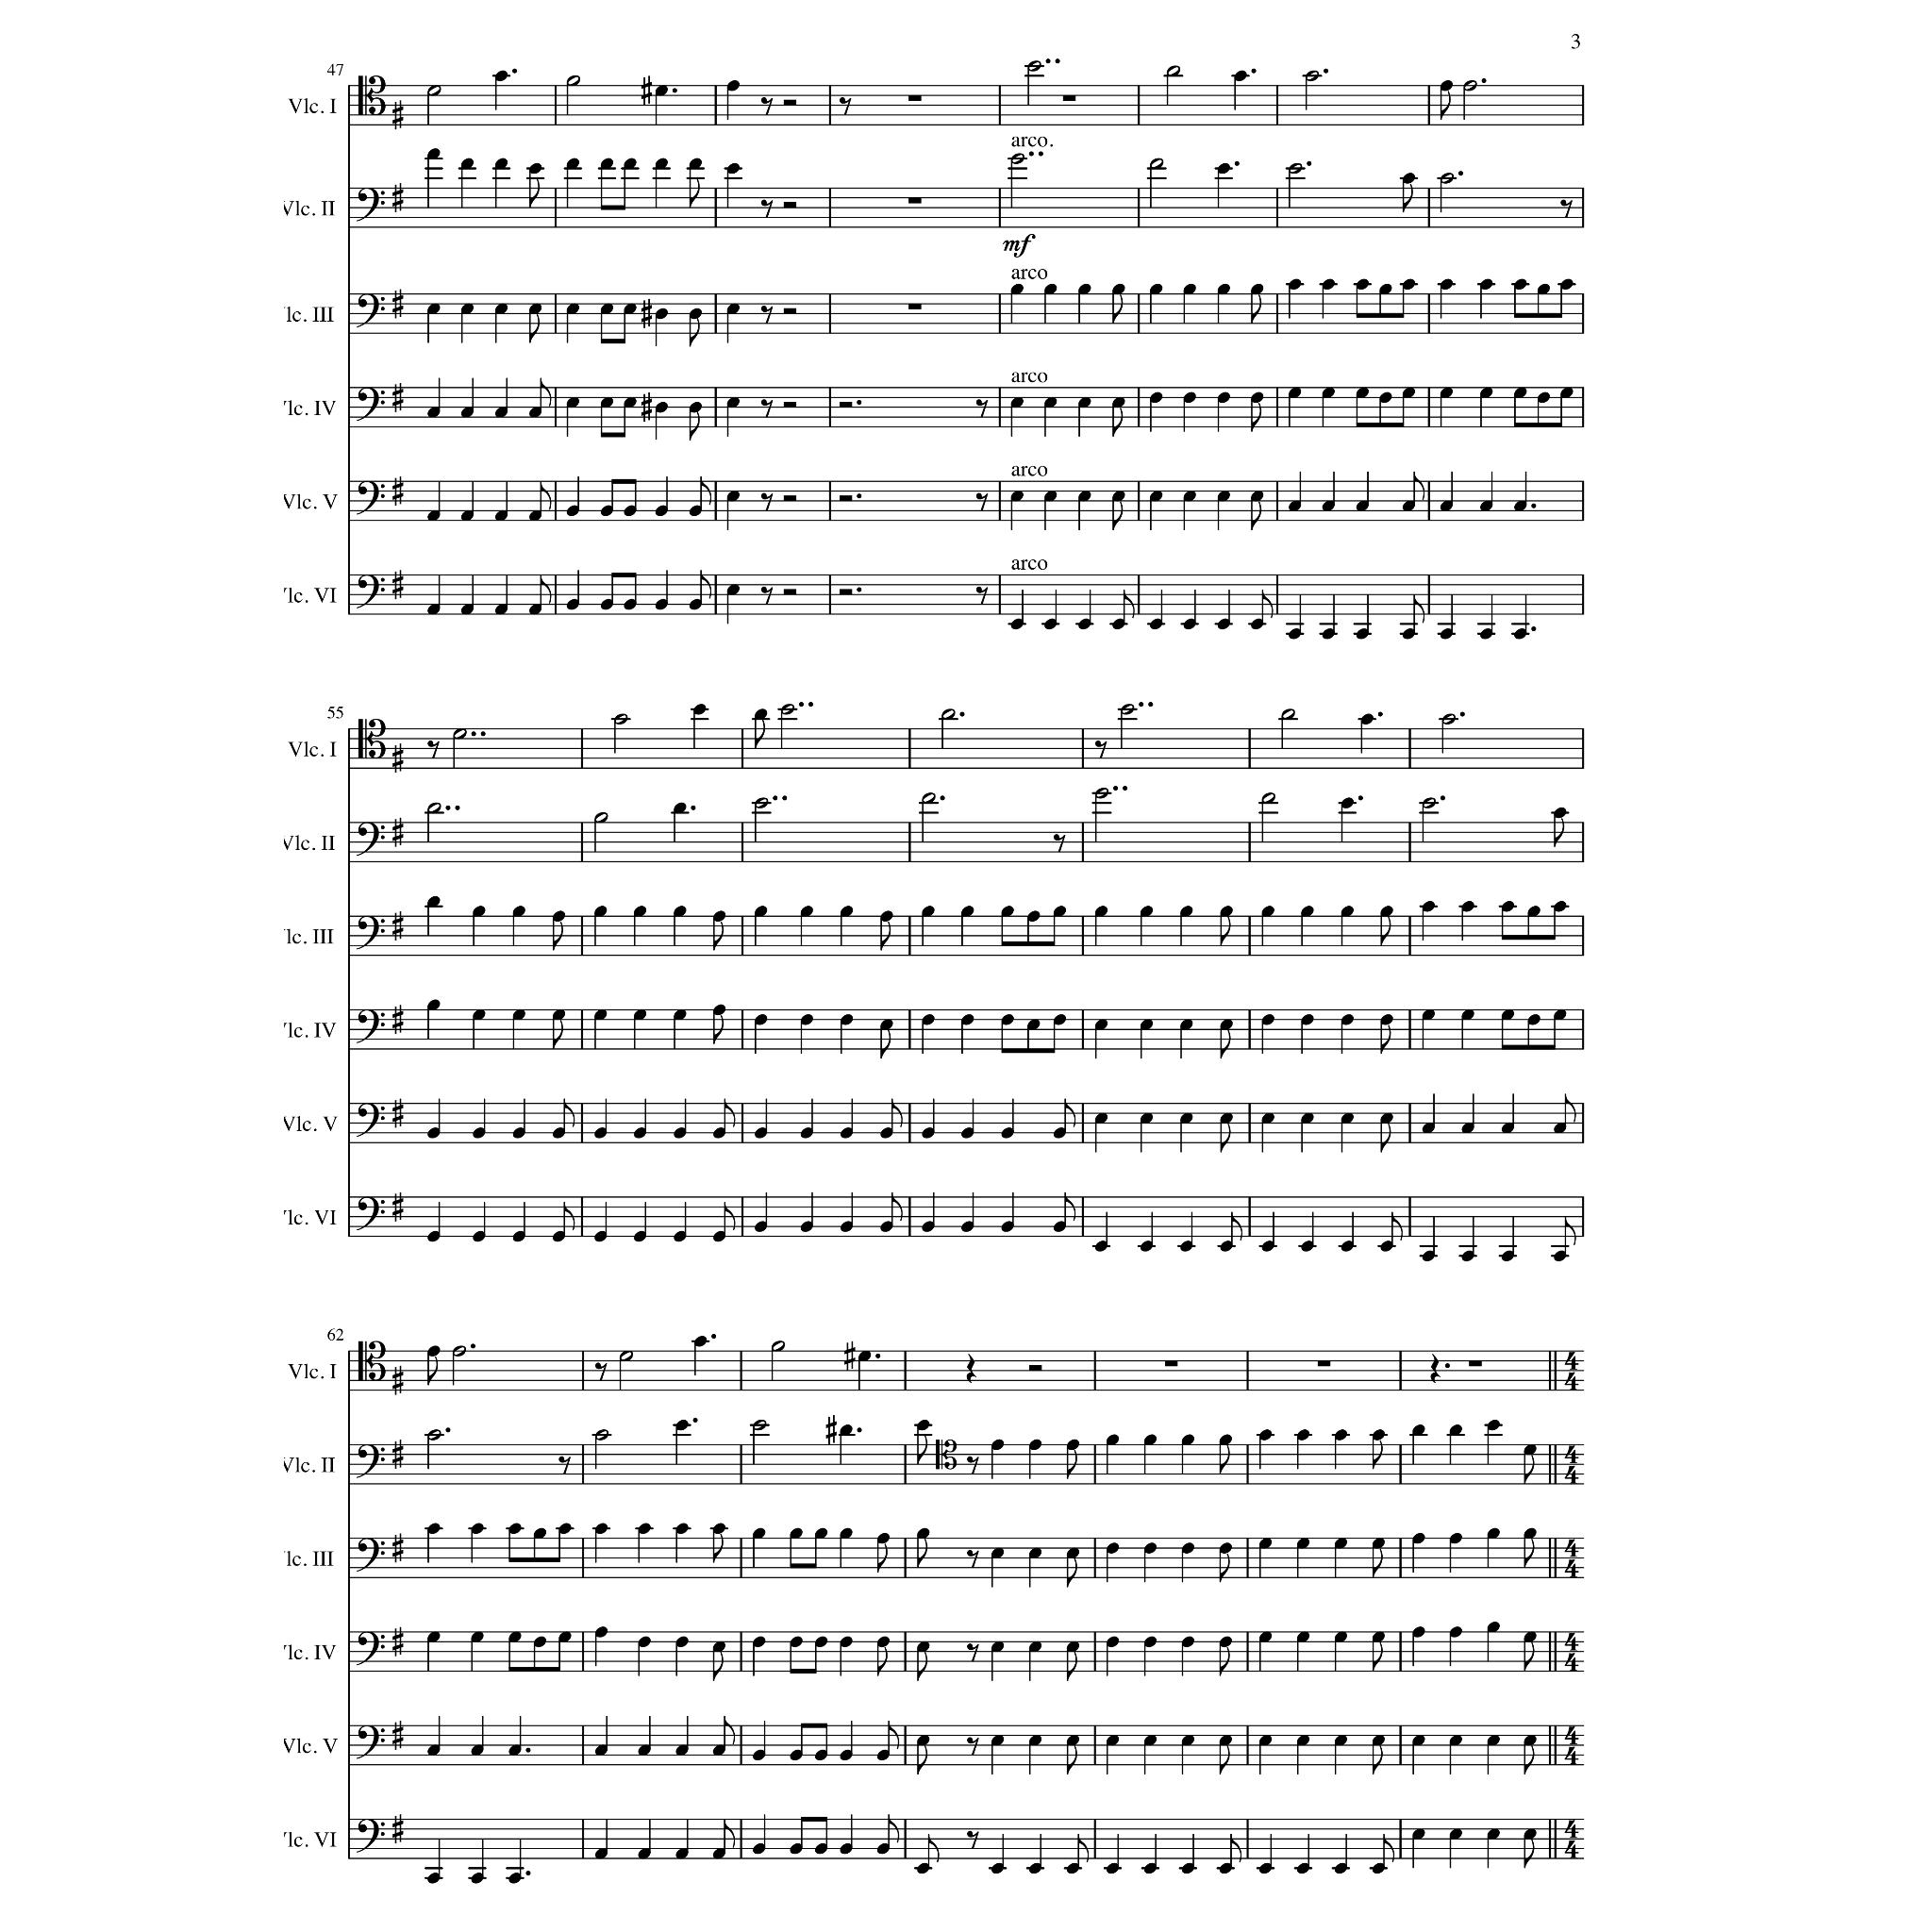fClef: (356, 573, 384, 609), (356, 294, 384, 329), (356, 1102, 384, 1138), (356, 915, 384, 950), (356, 1008, 384, 1044), (356, 1725, 384, 1760), (356, 1631, 384, 1667), (356, 1444, 384, 1479), (356, 481, 384, 515), (356, 387, 384, 421), (356, 188, 384, 221), (356, 1198, 384, 1231), (356, 823, 384, 856), (356, 1819, 384, 1852), (356, 1537, 384, 1571)
flag8thDown: (1251, 501, 1261, 531), (1251, 402, 1261, 432), (1113, 501, 1123, 531), (1440, 90, 1451, 120), (529, 313, 540, 343), (529, 179, 540, 209), (1221, 916, 1231, 947), (1221, 1030, 1231, 1060), (1380, 916, 1391, 947), (1380, 1024, 1391, 1054), (881, 1030, 892, 1060), (713, 1016, 724, 1046), (1067, 1449, 1077, 1479), (1523, 1642, 1534, 1672), (1523, 1537, 1534, 1568), (1523, 1454, 1534, 1484), (1523, 1838, 1534, 1868), (1373, 1548, 1384, 1578), (1373, 1642, 1384, 1672), (428, 1355, 439, 1385), (1251, 295, 1261, 324), (1113, 409, 1123, 437), (1113, 295, 1123, 324), (1403, 184, 1414, 212), (1221, 1123, 1231, 1152), (1553, 819, 1564, 847), (1380, 1123, 1391, 1152), (552, 922, 563, 950), (552, 1021, 563, 1049), (881, 922, 892, 950), (755, 720, 766, 748), (713, 922, 724, 950), (1221, 1445, 1231, 1474), (1221, 1553, 1231, 1582), (1221, 1647, 1231, 1675), (1221, 1746, 1231, 1775), (1067, 1559, 1077, 1587), (1067, 1746, 1077, 1775), (1067, 1652, 1077, 1681), (1523, 1746, 1534, 1775), (1373, 1440, 1384, 1468), (1373, 1746, 1384, 1775), (713, 1652, 724, 1681), (713, 1534, 724, 1562), (690, 410, 699, 441), (690, 317, 699, 347), (690, 179, 699, 209), (918, 1537, 927, 1568), (918, 1435, 927, 1465), (878, 1545, 886, 1573), (878, 1647, 886, 1675), (918, 1746, 927, 1775), (918, 1652, 927, 1681)
flag8thUp: (1261, 591, 1274, 619), (1414, 594, 1426, 623), (1414, 472, 1426, 501), (1063, 1099, 1076, 1127), (1063, 1192, 1076, 1221), (1391, 1212, 1403, 1240), (1077, 1835, 1090, 1863), (888, 1815, 901, 1844), (888, 1721, 901, 1750), (541, 575, 552, 605), (541, 481, 552, 511), (724, 1819, 734, 1849), (1123, 591, 1134, 619), (541, 379, 552, 407), (701, 571, 711, 600), (701, 478, 711, 506), (1231, 1212, 1242, 1240), (1566, 1217, 1576, 1246), (1566, 1095, 1576, 1123), (564, 1099, 575, 1127), (564, 1203, 575, 1231), (892, 1099, 902, 1127), (892, 1192, 902, 1221), (725, 1099, 736, 1127), (725, 1203, 736, 1231), (1231, 1835, 1242, 1863), (1384, 1835, 1394, 1863), (929, 1835, 939, 1863), (724, 1716, 734, 1744)
noteheadBlack: (1288, 628, 1302, 640), (1288, 501, 1302, 513), (1288, 387, 1302, 400), (1233, 71, 1247, 83), (1077, 283, 1092, 295), (1077, 396, 1092, 409), (1077, 490, 1092, 502), (1044, 490, 1058, 502), (1044, 396, 1058, 409), (1044, 283, 1058, 295), (655, 402, 669, 414), (600, 396, 614, 409), (600, 303, 614, 315), (623, 396, 637, 409), (623, 303, 637, 315), (460, 603, 474, 616), (460, 510, 474, 522), (460, 303, 474, 315), (494, 603, 508, 616), (494, 510, 508, 522), (494, 303, 508, 315), (494, 71, 508, 83), (655, 308, 669, 320), (1010, 396, 1024, 409), (1010, 490, 1024, 502), (1010, 283, 1024, 295), (688, 308, 702, 320), (688, 402, 702, 414), (1219, 1240, 1233, 1253), (1180, 1240, 1194, 1253), (1053, 1014, 1067, 1026), (1053, 1127, 1067, 1139), (1053, 1221, 1067, 1233), (1139, 1240, 1154, 1253), (1527, 1014, 1541, 1026), (1553, 807, 1568, 819), (1553, 901, 1568, 913), (1553, 1249, 1568, 1261), (1380, 1014, 1394, 1026), (1300, 1014, 1315, 1026), (1300, 1240, 1315, 1253), (1380, 1240, 1394, 1253), (1422, 901, 1437, 913), (1422, 1249, 1437, 1261), (879, 909, 893, 922), (879, 1127, 893, 1139), (879, 1221, 893, 1233), (961, 1014, 975, 1026), (961, 1127, 975, 1139), (961, 1221, 975, 1233), (800, 1127, 814, 1139), (800, 1014, 814, 1026), (800, 1221, 814, 1233), (1143, 1433, 1157, 1445), (1028, 1546, 1042, 1559), (1486, 1828, 1500, 1840), (1486, 1419, 1500, 1431), (1523, 1444, 1537, 1456), (1523, 1828, 1537, 1840), (1412, 1828, 1426, 1840), (1412, 1626, 1426, 1638), (1371, 1537, 1385, 1550), (1412, 1532, 1426, 1545), (1412, 1424, 1426, 1437), (637, 1744, 651, 1757), (508, 1872, 522, 1884), (508, 1744, 522, 1757), (471, 1872, 485, 1884), (471, 1744, 485, 1757), (876, 1532, 890, 1545), (916, 1419, 931, 1431), (1217, 490, 1230, 502), (1184, 283, 1196, 295), (1184, 490, 1196, 502), (1217, 283, 1230, 295), (1217, 163, 1230, 175), (1251, 490, 1263, 502), (1251, 283, 1263, 295), (1113, 490, 1125, 502), (1113, 396, 1125, 409), (1113, 283, 1125, 295), (1150, 283, 1162, 295), (1150, 490, 1162, 502), (1514, 628, 1527, 640), (1514, 501, 1527, 513), (1514, 387, 1527, 400), (1481, 628, 1493, 640), (1481, 501, 1493, 513), (1481, 387, 1493, 400), (1560, 387, 1573, 400), (1537, 283, 1550, 295), (1357, 628, 1369, 640), (1357, 501, 1369, 513), (1357, 387, 1369, 400), (1380, 283, 1392, 295), (1322, 501, 1334, 513), (1322, 628, 1334, 640), (1322, 387, 1334, 400), (1440, 628, 1453, 640), (1440, 501, 1453, 513), (1440, 387, 1453, 400), (1440, 80, 1453, 92), (1403, 501, 1415, 513), (1403, 628, 1415, 640), (1403, 387, 1415, 400), (566, 396, 579, 409), (566, 303, 579, 315), (426, 603, 439, 616), (426, 510, 439, 522), (426, 303, 439, 315), (529, 510, 541, 522), (529, 603, 541, 616), (529, 303, 541, 315), (529, 163, 541, 175), (727, 490, 740, 502), (727, 396, 740, 409), (727, 303, 740, 315), (727, 163, 740, 175), (727, 80, 740, 92), (1261, 1014, 1274, 1026), (1261, 1240, 1274, 1253), (1028, 909, 1040, 922), (1095, 1240, 1108, 1253), (1502, 1249, 1514, 1261), (1502, 901, 1514, 913), (1461, 901, 1474, 913), (1461, 1249, 1474, 1261), (1341, 1240, 1353, 1253), (1361, 713, 1373, 725), (1341, 1014, 1353, 1026), (594, 1127, 607, 1139), (674, 1127, 686, 1139), (1001, 1221, 1014, 1233), (633, 1127, 646, 1139), (552, 1127, 564, 1139), (426, 1127, 439, 1139), (513, 1127, 525, 1139), (552, 909, 564, 922), (472, 1127, 485, 1139), (922, 1014, 934, 1026), (922, 1127, 934, 1139), (922, 1221, 934, 1233), (840, 1014, 853, 1026), (840, 1127, 853, 1139), (840, 1221, 853, 1233), (1001, 1014, 1014, 1026), (1001, 1127, 1014, 1139), (713, 909, 725, 922), (713, 1127, 725, 1139), (754, 708, 766, 720), (754, 1014, 766, 1026), (754, 1127, 766, 1139), (754, 1221, 766, 1233), (1182, 1433, 1194, 1445), (1260, 1537, 1272, 1550), (1219, 1433, 1231, 1445), (1067, 1546, 1079, 1559), (991, 1546, 1003, 1559), (1106, 1433, 1118, 1445), (1449, 1828, 1461, 1840), (1449, 1626, 1461, 1638), (1449, 1532, 1461, 1545), (1449, 1424, 1461, 1437), (1334, 1537, 1346, 1550), (1297, 1537, 1309, 1550), (594, 1626, 607, 1638), (594, 1744, 607, 1757), (713, 1744, 725, 1757), (676, 1744, 688, 1757), (676, 1419, 688, 1431), (426, 1744, 439, 1757), (426, 1345, 439, 1357), (426, 1872, 439, 1884), (840, 1424, 853, 1437), (1288, 280, 1302, 290), (1044, 619, 1058, 630), (1077, 619, 1092, 630), (600, 159, 614, 170), (655, 506, 669, 517), (655, 600, 669, 610), (655, 159, 669, 170), (655, 85, 669, 96), (600, 600, 614, 610), (600, 506, 614, 517), (623, 600, 637, 610), (623, 506, 637, 517), (623, 159, 637, 170), (460, 407, 474, 418), (460, 159, 474, 170), (494, 407, 508, 418), (494, 159, 508, 170), (1010, 619, 1024, 630), (688, 600, 702, 610), (688, 506, 702, 517), (688, 159, 702, 170), (1219, 906, 1233, 916), (1219, 1019, 1233, 1030), (1219, 1113, 1233, 1123), (1180, 906, 1194, 916), (1180, 1019, 1194, 1030), (1180, 1113, 1194, 1123), (1053, 906, 1067, 916), (1139, 906, 1154, 916), (1139, 1019, 1154, 1030), (1139, 1113, 1154, 1123), (1527, 906, 1541, 916), (1553, 1010, 1568, 1021), (1553, 1123, 1568, 1134), (1380, 906, 1394, 916), (1300, 906, 1315, 916), (1300, 1113, 1315, 1123), (1380, 1113, 1394, 1123), (1422, 1010, 1437, 1021), (1422, 1123, 1437, 1134), (692, 704, 706, 715), (879, 1019, 893, 1030), (961, 906, 975, 916), (800, 906, 814, 916), (1143, 1543, 1157, 1553), (1143, 1637, 1157, 1647), (1143, 1736, 1157, 1746), (1143, 1863, 1157, 1874), (1028, 1642, 1042, 1652), (1028, 1863, 1042, 1874), (1028, 1736, 1042, 1746), (1028, 1440, 1042, 1451), (1486, 1736, 1500, 1746), (1486, 1622, 1500, 1633), (1486, 1529, 1500, 1539), (1523, 1529, 1537, 1539), (1523, 1736, 1537, 1746), (1523, 1631, 1537, 1642), (1412, 1736, 1426, 1746), (1371, 1863, 1385, 1874), (1371, 1736, 1385, 1746), (1371, 1631, 1385, 1642), (1371, 1430, 1385, 1440), (557, 1631, 571, 1642), (557, 1523, 571, 1534), (637, 1849, 651, 1859), (637, 1637, 651, 1647), (637, 1523, 651, 1534), (508, 1631, 522, 1642), (508, 1523, 522, 1534), (533, 1637, 547, 1647), (533, 1529, 547, 1539), (471, 1523, 485, 1534), (471, 1631, 485, 1642), (876, 1637, 890, 1647), (876, 1844, 890, 1854), (876, 1750, 890, 1760), (916, 1642, 931, 1652), (916, 1529, 931, 1539), (916, 1736, 931, 1746), (916, 1863, 931, 1874), (814, 1637, 828, 1647), (814, 1529, 828, 1539), (814, 1750, 828, 1760), (814, 1844, 828, 1854), (789, 1637, 803, 1647), (789, 1844, 803, 1854), (789, 1750, 803, 1760), (789, 1529, 803, 1539), (1217, 619, 1230, 630), (1217, 393, 1230, 403), (1184, 393, 1196, 403), (1184, 619, 1196, 630), (1251, 393, 1263, 403), (1251, 619, 1263, 630), (1113, 619, 1125, 630), (1150, 619, 1162, 630), (1150, 393, 1162, 403), (1514, 280, 1527, 290), (1481, 280, 1493, 290), (1560, 280, 1573, 290), (1537, 393, 1550, 403), (1357, 280, 1369, 290), (1380, 393, 1392, 403), (1322, 280, 1334, 290), (1440, 280, 1453, 290), (1403, 280, 1415, 290), (1403, 173, 1415, 184), (566, 600, 579, 610), (566, 506, 579, 517), (566, 159, 579, 170), (426, 407, 439, 418), (426, 149, 439, 159), (529, 407, 541, 418), (727, 584, 740, 594), (1261, 906, 1274, 916), (1261, 1113, 1274, 1123), (1095, 906, 1108, 916), (1095, 1019, 1108, 1030), (1095, 1113, 1108, 1123), (1028, 1019, 1040, 1030), (1502, 1123, 1514, 1134), (1502, 1010, 1514, 1021), (1461, 1010, 1474, 1021), (1461, 1123, 1474, 1134), (1341, 1113, 1353, 1123), (1341, 798, 1353, 809), (1341, 906, 1353, 916), (552, 1231, 564, 1242), (594, 906, 607, 916), (594, 1010, 607, 1021), (594, 1231, 607, 1242), (674, 906, 686, 916), (674, 1010, 686, 1021), (674, 1231, 686, 1242), (674, 803, 686, 814), (633, 906, 646, 916), (633, 1010, 646, 1021), (633, 1231, 646, 1242), (426, 897, 439, 908), (426, 1000, 439, 1010), (426, 1231, 439, 1242), (513, 906, 525, 916), (513, 1010, 525, 1021), (513, 1231, 525, 1242), (552, 1010, 564, 1021), (472, 906, 485, 916), (472, 1010, 485, 1021), (472, 1231, 485, 1242), (922, 906, 934, 916), (840, 906, 853, 916), (1001, 906, 1014, 916), (713, 1005, 725, 1016), (713, 1231, 725, 1242), (754, 906, 766, 916), (1182, 1863, 1194, 1874), (1182, 1736, 1194, 1746), (1182, 1637, 1194, 1647), (1182, 1543, 1194, 1553), (1219, 1543, 1231, 1553), (1260, 1863, 1272, 1874), (1260, 1736, 1272, 1746), (1260, 1631, 1272, 1642), (1260, 1430, 1272, 1440), (1219, 1637, 1231, 1647), (1219, 1736, 1231, 1746), (1219, 1863, 1231, 1874), (991, 1642, 1003, 1652), (1067, 1863, 1079, 1874), (1067, 1736, 1079, 1746), (1067, 1642, 1079, 1652), (1067, 1440, 1079, 1451), (991, 1863, 1003, 1874), (991, 1736, 1003, 1746), (1106, 1543, 1118, 1553), (1106, 1637, 1118, 1647), (1106, 1736, 1118, 1746), (1106, 1863, 1118, 1874), (991, 1440, 1003, 1451), (1449, 1736, 1461, 1746), (1334, 1863, 1346, 1874), (1334, 1736, 1346, 1746), (1334, 1631, 1346, 1642), (1334, 1430, 1346, 1440), (1297, 1736, 1309, 1746), (1297, 1863, 1309, 1874), (1297, 1631, 1309, 1642), (1297, 1430, 1309, 1440), (594, 1849, 607, 1859), (594, 1523, 607, 1534), (676, 1849, 688, 1859), (713, 1849, 725, 1859), (713, 1642, 725, 1652), (713, 1523, 725, 1534), (676, 1637, 688, 1647), (676, 1523, 688, 1534), (426, 1631, 439, 1642), (426, 1523, 439, 1534), (694, 1336, 706, 1346), (840, 1844, 853, 1854), (840, 1750, 853, 1760), (840, 1637, 853, 1647), (840, 1529, 853, 1539), (858, 1350, 870, 1361), (752, 1844, 764, 1854), (752, 1750, 764, 1760), (752, 1637, 764, 1647), (752, 1529, 764, 1539)
noteheadHalf: (1288, 163, 1302, 175), (1028, 60, 1042, 73), (1463, 80, 1477, 92), (1095, 787, 1109, 800), (1442, 713, 1456, 725), (1281, 708, 1295, 720), (614, 713, 628, 725), (941, 708, 955, 720), (451, 1345, 465, 1357), (752, 1419, 766, 1431), (1166, 65, 1180, 76), (1150, 159, 1164, 170), (1306, 71, 1320, 81), (1440, 173, 1454, 184), (566, 76, 580, 87), (426, 85, 441, 96), (1010, 154, 1024, 165), (1261, 793, 1276, 803), (1120, 704, 1134, 715), (1422, 798, 1437, 809), (594, 812, 609, 823), (426, 803, 441, 814), (453, 729, 467, 740), (922, 793, 936, 803), (754, 798, 768, 809), (780, 704, 794, 715), (594, 1430, 609, 1440), (619, 1350, 633, 1361), (426, 1430, 441, 1440), (771, 1341, 786, 1352)
rest8th: (975, 494, 989, 513), (1053, 833, 1067, 853), (557, 1456, 571, 1476), (975, 587, 989, 605), (975, 400, 989, 418), (1560, 200, 1573, 219), (839, 97, 851, 117), (761, 494, 773, 513), (761, 200, 773, 219), (761, 97, 773, 117), (594, 1362, 607, 1382), (966, 1456, 978, 1476), (966, 1831, 978, 1851), (966, 1644, 978, 1663), (966, 1550, 978, 1569), (761, 587, 773, 605), (761, 400, 773, 418), (761, 306, 773, 324), (1095, 741, 1108, 759), (426, 741, 439, 759), (966, 1737, 978, 1755)
restHalf: (1028, 1364, 1042, 1371), (839, 589, 851, 596), (839, 495, 851, 502), (784, 99, 796, 106), (784, 202, 796, 209), (784, 589, 796, 596), (784, 495, 796, 502), (784, 308, 796, 315), (839, 402, 851, 407), (784, 402, 796, 407)
restQuarter: (966, 1353, 977, 1384), (1431, 1353, 1440, 1384)
restWhole: (908, 96, 922, 103), (908, 303, 922, 310), (1062, 96, 1076, 103), (1468, 1361, 1483, 1368), (1166, 1361, 1178, 1368), (1318, 1361, 1330, 1368), (908, 198, 922, 203)
